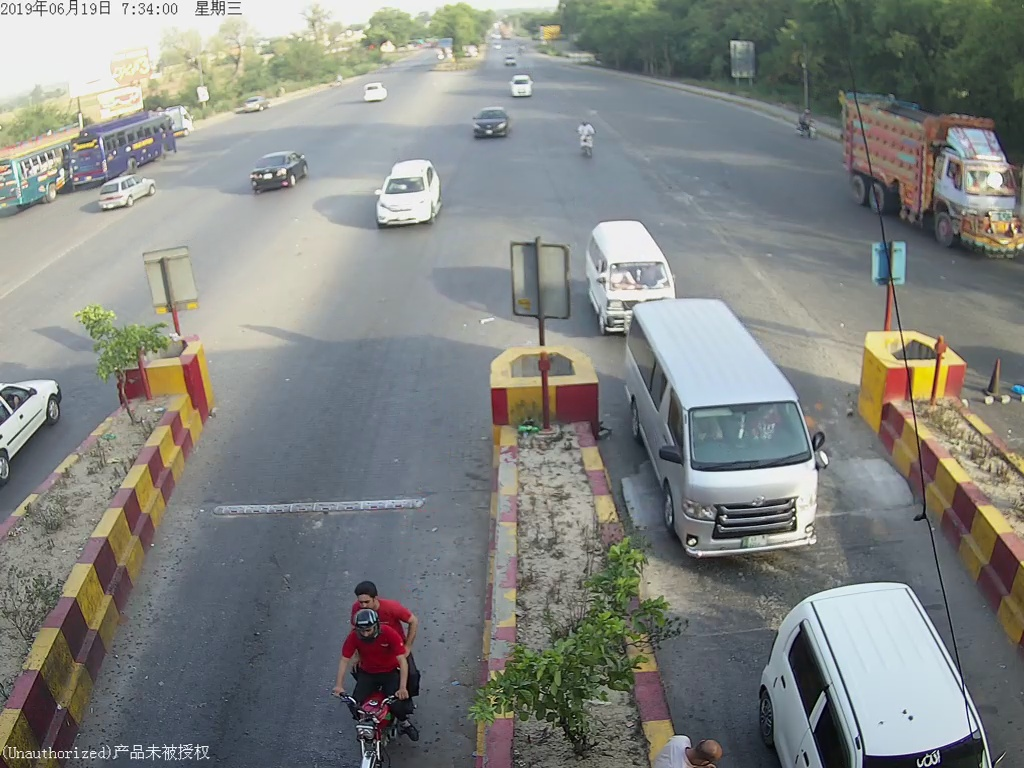Cat-1: (373, 161, 446, 234), (465, 107, 510, 139)
Cat-2: (629, 315, 831, 556)
